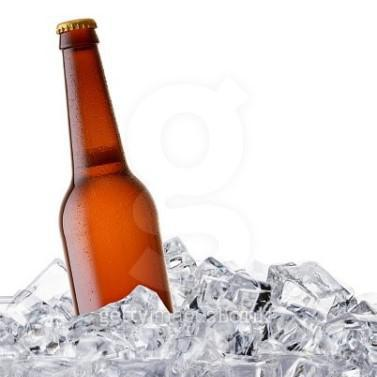beer: (48, 17, 178, 323)
